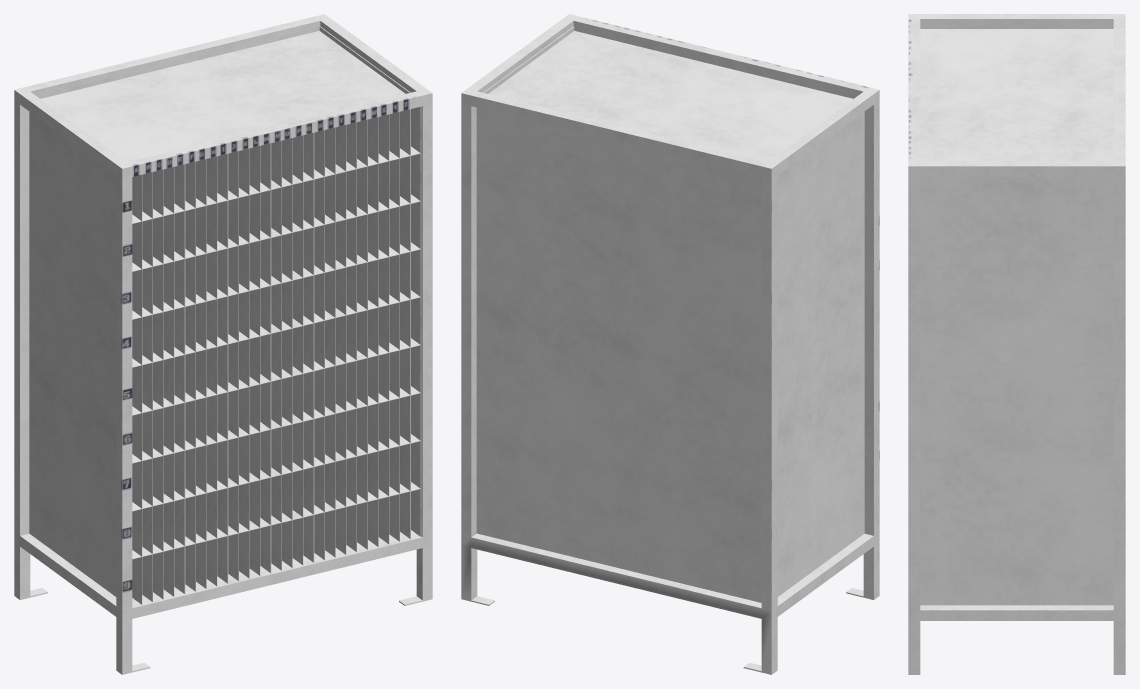
The model's file is DyeSmallStand.fbx.
3 views of the same model, side by side, from view 1: azimuth 30°, elevation 25°; view 2: azimuth 150°, elevation 25°; view 3: azimuth 270°, elevation 25° (orthographic).
Visible parts, largest first — view 1: Dye SmallStand; view 2: Dye SmallStand; view 3: Dye SmallStand.
Boxes of the visible parts, x1,y1,x2,y2 form: Dye SmallStand: [14, 14, 432, 674]; Dye SmallStand: [461, 14, 879, 674]; Dye SmallStand: [908, 14, 1125, 674].
Bounding box in the file's own units: 0.7751 × 1.21 × 0.4674.
1 material, 1 textured.
